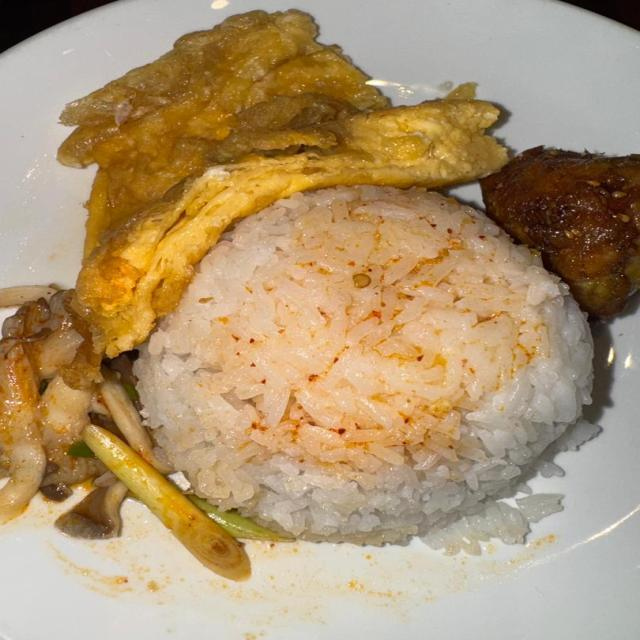Chicken: (478, 149, 639, 324)
Egg: (55, 8, 510, 362)
Plate: (0, 308, 639, 639)
Rice: (130, 186, 603, 553)
Vegetables: (0, 283, 257, 578)
